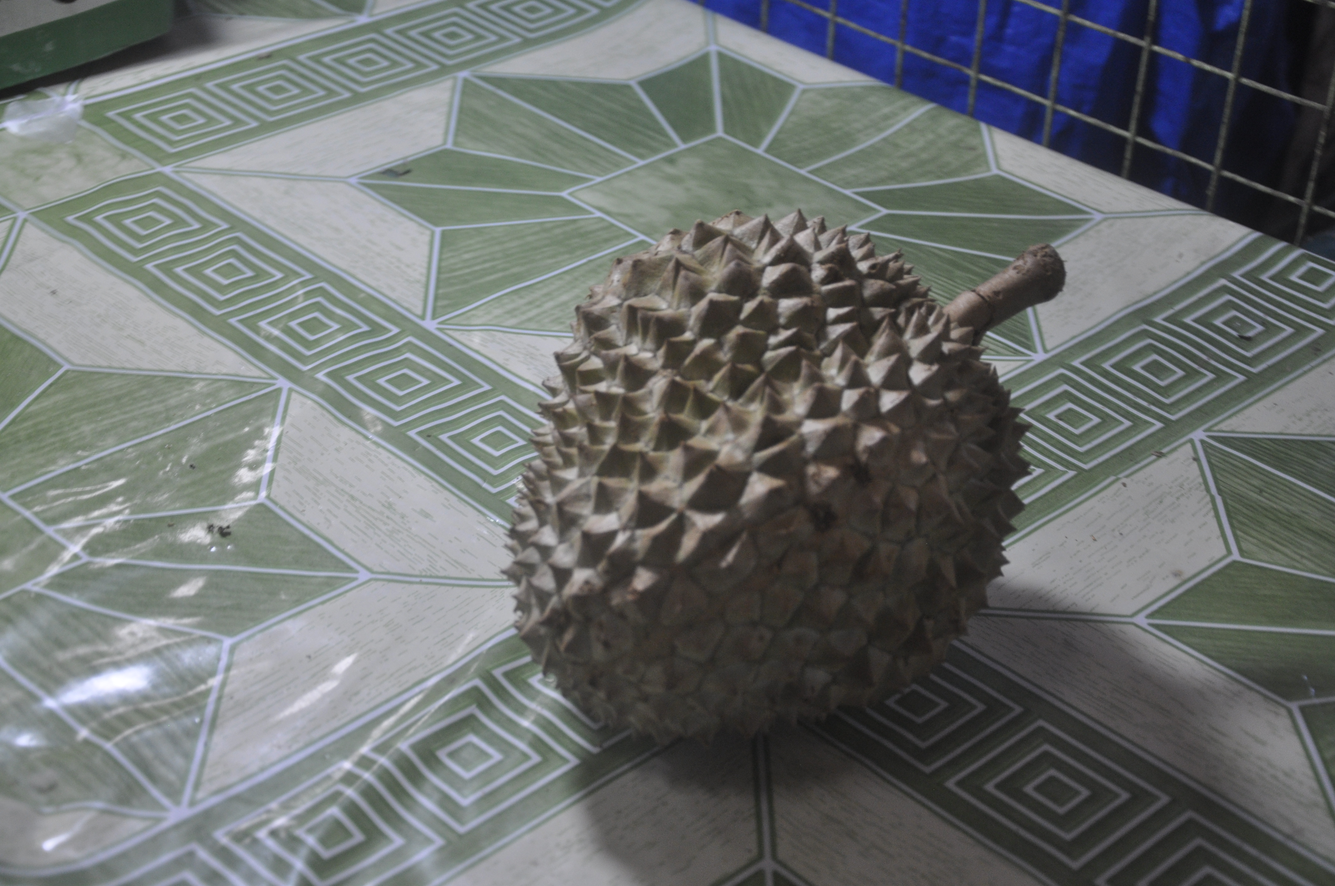mature: (506, 211, 1064, 743)
